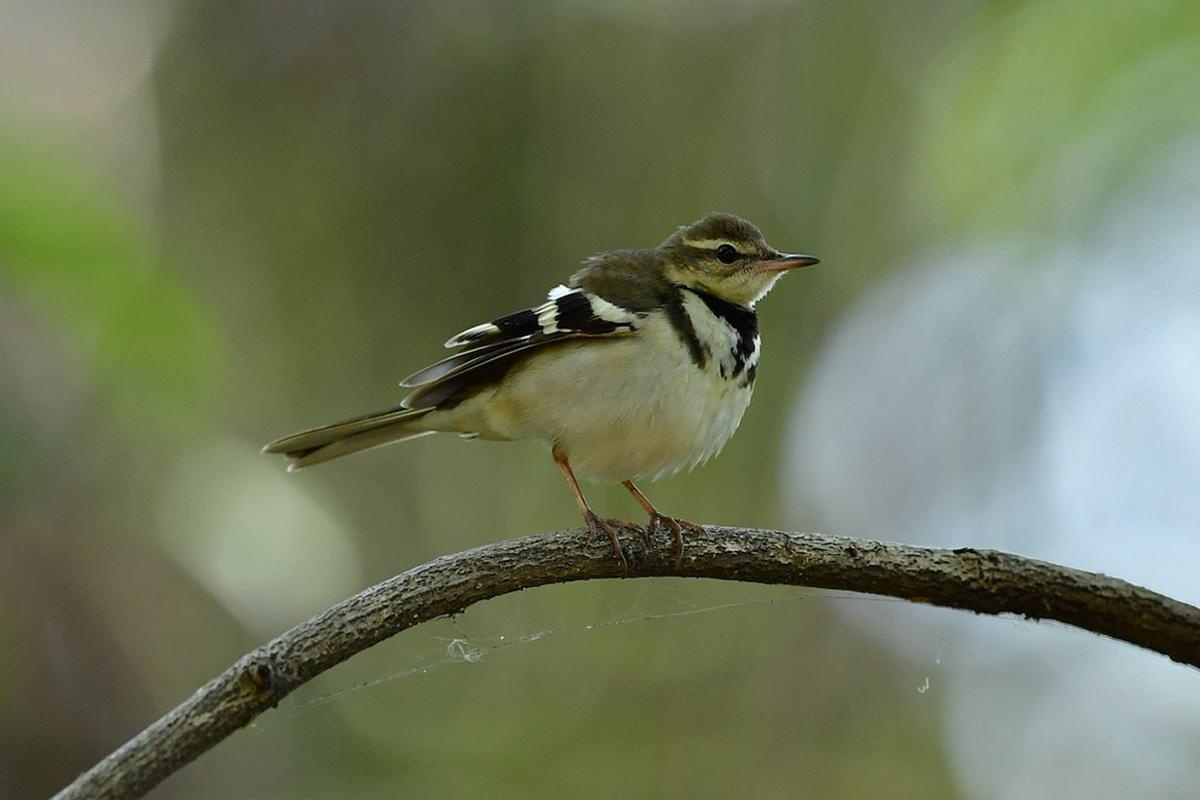wagtail: (289, 215, 821, 557)
